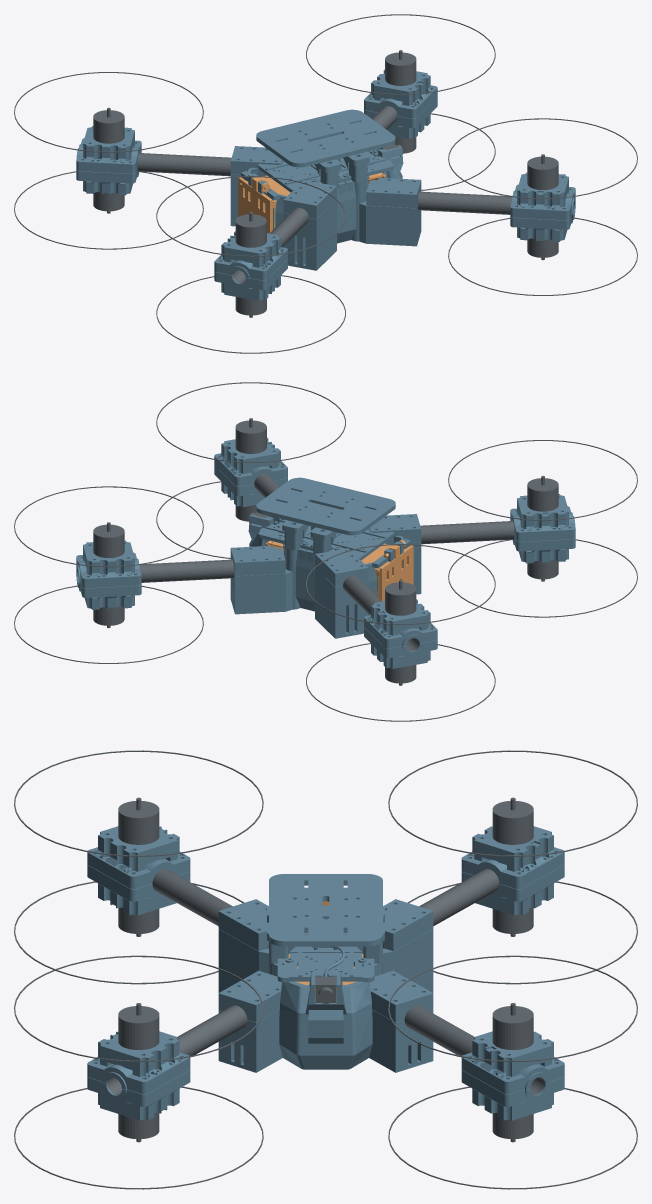
File: drone-10inch-light.glb
3 views of the same model, one above another, from view 1: azimuth 30°, elevation 25°; view 2: azimuth 150°, elevation 25°; view 3: azimuth 270°, elevation 25° (orthographic). The views are drawn at different scales.
Visible parts, largest first — view 1: Core_8, Camera_11, FrontRight_2, RearRight_6, RearLeft_4, FrontLeft_0, RearLeft_5, FrontRight_3, RearRight_7, FrontLeft_1, TubeRearLeft_15, TubeFrontRight_14 (+2 smaller); view 2: Core_8, Camera_11, FrontLeft_0, RearLeft_4, RearRight_6, FrontRight_2, RearRight_7, FrontLeft_1, RearLeft_5, FrontRight_3, TubeRearRight_16, TubeFrontLeft_13 (+2 smaller); view 3: Core_8, Camera_11, FrontLeft_0, FrontRight_2, RearLeft_4, RearRight_6, FrontLeft_1, FrontRight_3, RearLeft_5, RearRight_7, TubeFrontLeft_13, TubeFrontRight_14 (+2 smaller).
Boxes of the visible parts, x1,y1,x2,y2 form: Core_8: (230, 146, 421, 270); Camera_11: (256, 109, 395, 187); FrontRight_2: (366, 172, 575, 241); RearRight_6: (214, 180, 336, 300); RearLeft_4: (76, 126, 282, 195); FrontLeft_0: (364, 69, 437, 139); RearLeft_5: (14, 72, 203, 249); FrontRight_3: (448, 118, 637, 295); RearRight_7: (156, 176, 345, 353); FrontLeft_1: (306, 14, 495, 190); TubeRearLeft_15: (137, 153, 231, 176); TubeFrontRight_14: (418, 191, 573, 214); Core_8: (230, 514, 421, 638); Camera_11: (256, 477, 395, 555); FrontLeft_0: (76, 540, 285, 609); RearLeft_4: (315, 548, 437, 668); RearRight_6: (369, 494, 575, 563); FrontRight_2: (214, 437, 287, 507); RearRight_7: (448, 440, 637, 617); FrontLeft_1: (14, 486, 203, 663); RearLeft_5: (306, 544, 495, 721); FrontRight_3: (156, 382, 345, 558); TubeRearRight_16: (420, 521, 514, 544); TubeFrontLeft_13: (78, 559, 233, 582); Core_8: (218, 929, 433, 1072); Camera_11: (267, 874, 384, 976); FrontLeft_0: (370, 970, 564, 1120); FrontRight_2: (87, 970, 281, 1120); RearLeft_4: (383, 826, 564, 951); RearRight_6: (87, 826, 268, 951); FrontLeft_1: (388, 955, 637, 1189); FrontRight_3: (14, 955, 263, 1189); RearLeft_5: (388, 750, 637, 984); RearRight_7: (14, 750, 263, 984); TubeFrontLeft_13: (404, 1005, 544, 1094); TubeFrontRight_14: (107, 1005, 247, 1094).
Size of the model in its own units: 0.7046 by 0.174 by 0.6345.
